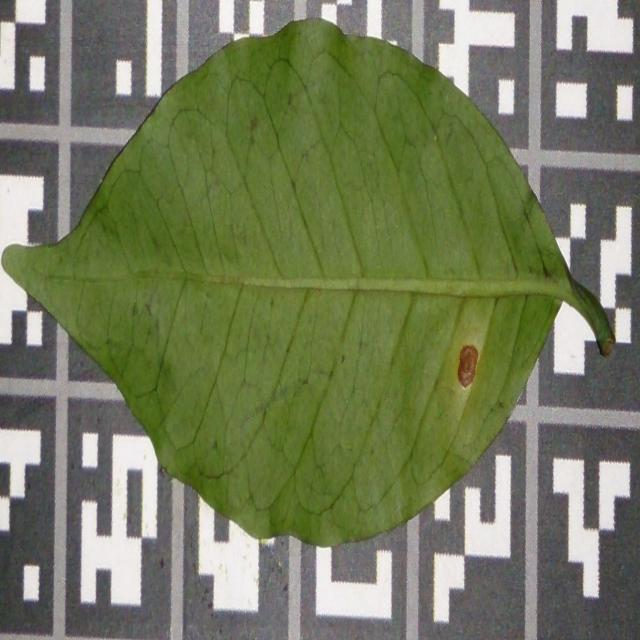Enfermedad-Mancha-de-hierro: (0, 20, 582, 549)
